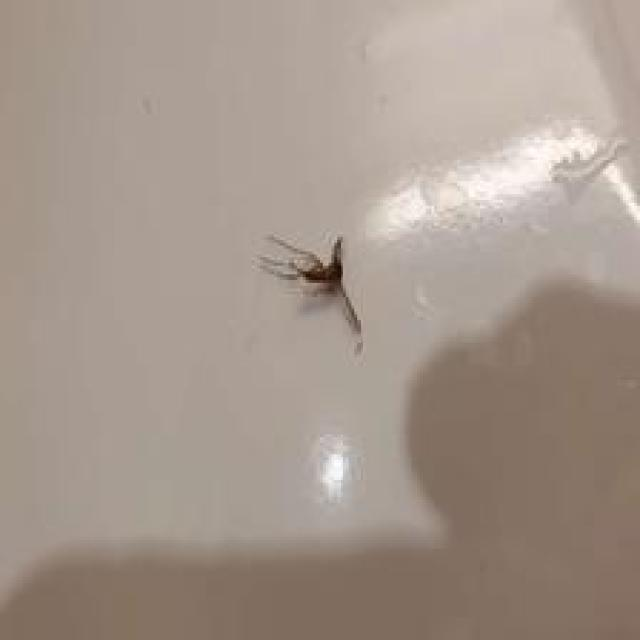Culex: (251, 230, 366, 356)
